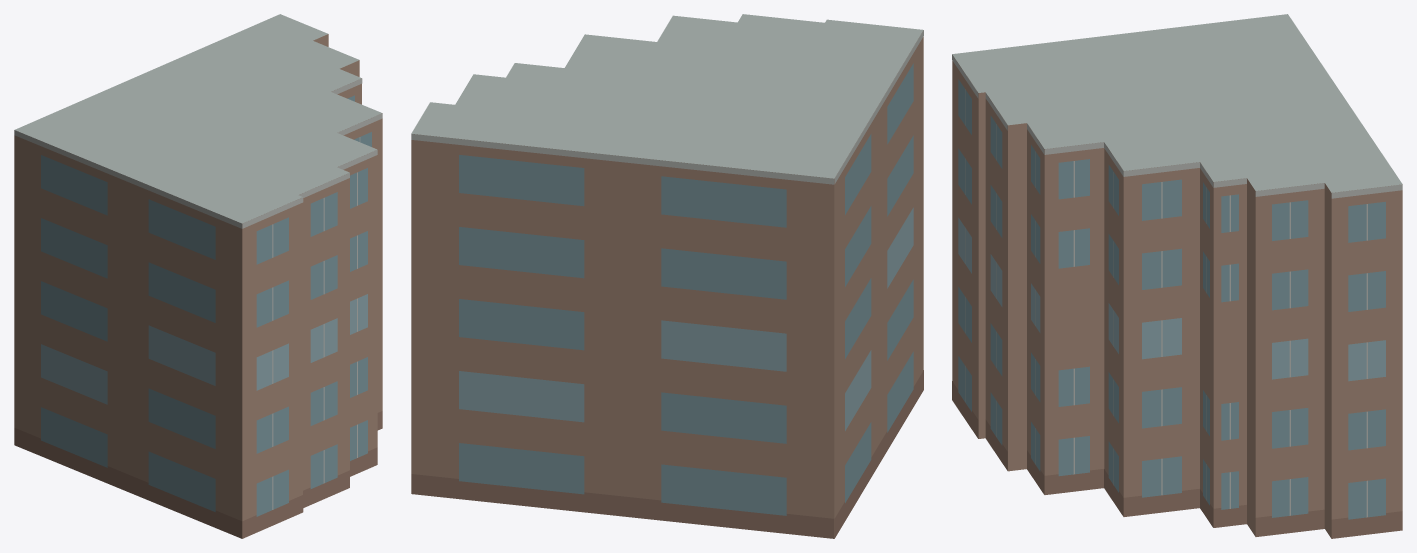
Rendered from survey-upis-32911313.glb.
The picture shows the model from 3 angles, left to right: view 1: azimuth 30°, elevation 25°; view 2: azimuth 150°, elevation 25°; view 3: azimuth 270°, elevation 25°; orthographic projection. The views are drawn at different scales.
Visible parts, largest first — view 1: survey-upis-32911313.tmp; view 2: survey-upis-32911313.tmp; view 3: survey-upis-32911313.tmp.
Part boxes in pixels (x1,y1,x2,y2): survey-upis-32911313.tmp: [14, 14, 382, 538]; survey-upis-32911313.tmp: [411, 14, 923, 538]; survey-upis-32911313.tmp: [952, 14, 1402, 538].
Bounding box in the file's own units: 16.03 × 14.45 × 17.07.
